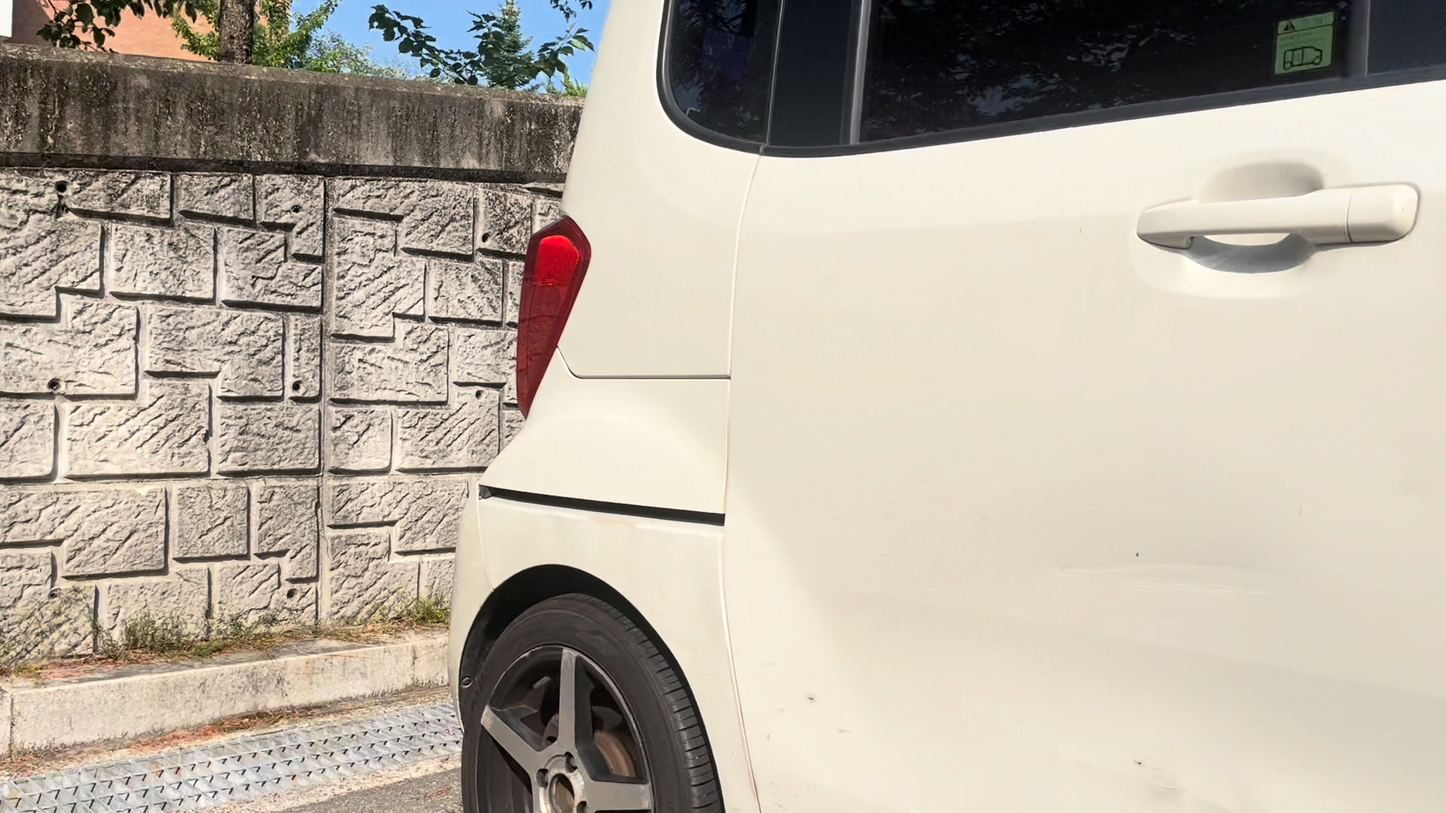tail_light: (512, 216, 590, 419)
